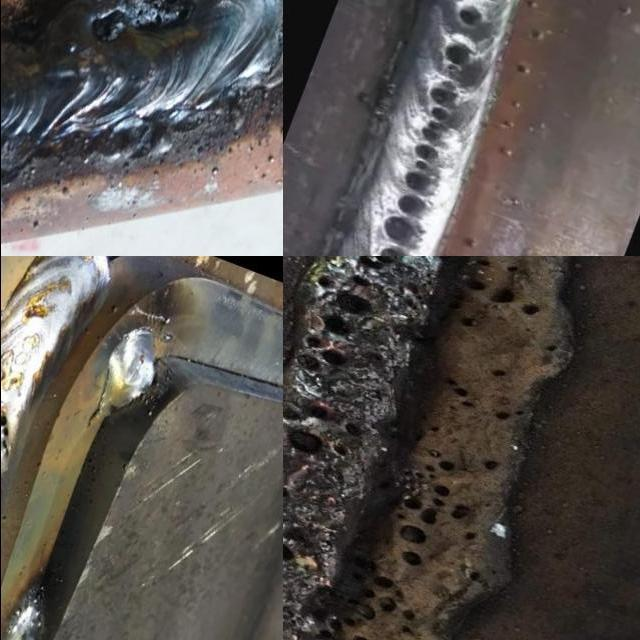defect: (374, 74, 459, 256), (288, 256, 394, 376), (393, 449, 476, 571), (312, 552, 418, 640), (282, 398, 362, 471), (90, 0, 195, 46), (452, 274, 548, 322), (440, 371, 479, 415), (436, 37, 474, 71), (453, 563, 493, 591), (474, 256, 527, 277), (451, 3, 483, 27), (493, 405, 530, 425), (481, 364, 515, 384), (478, 456, 505, 475), (0, 410, 10, 458), (456, 313, 480, 332), (539, 342, 565, 358)
